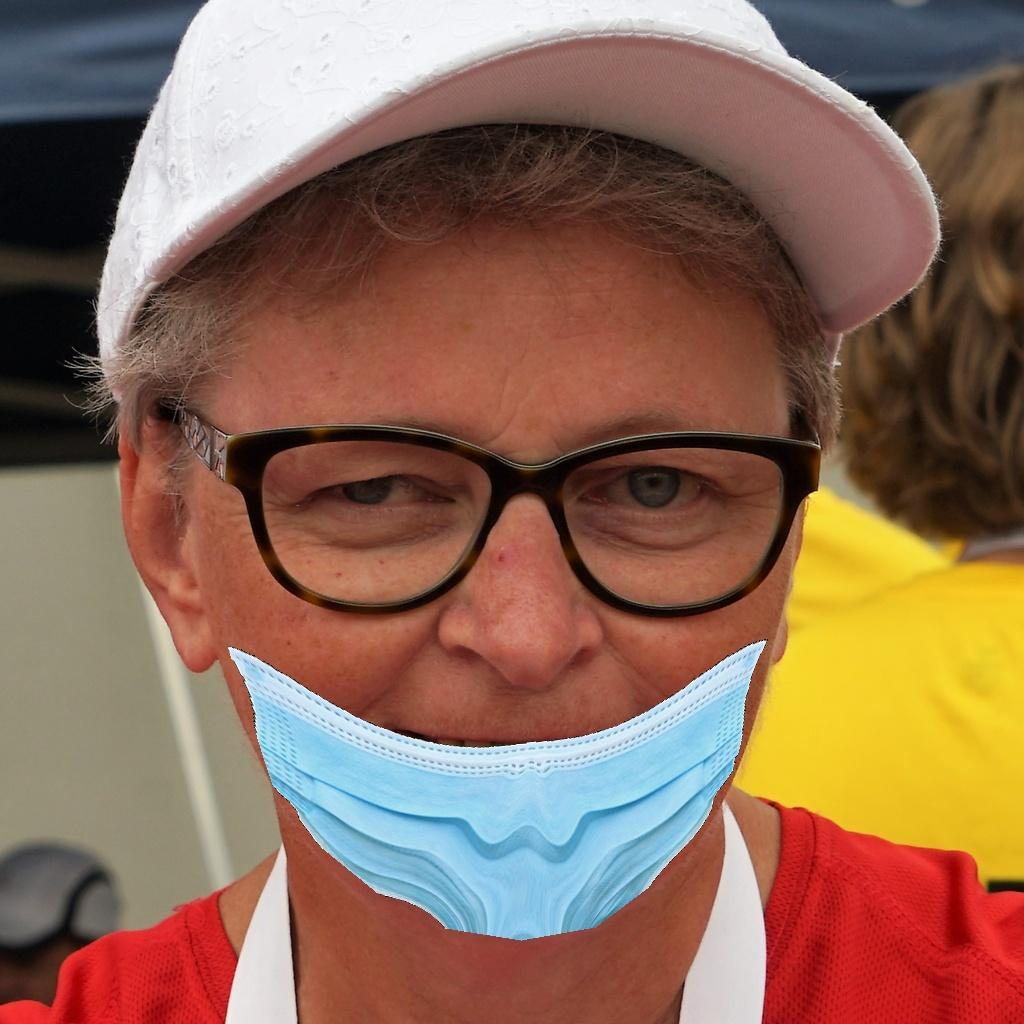Máscara Incorreta: (139, 279, 817, 925)
